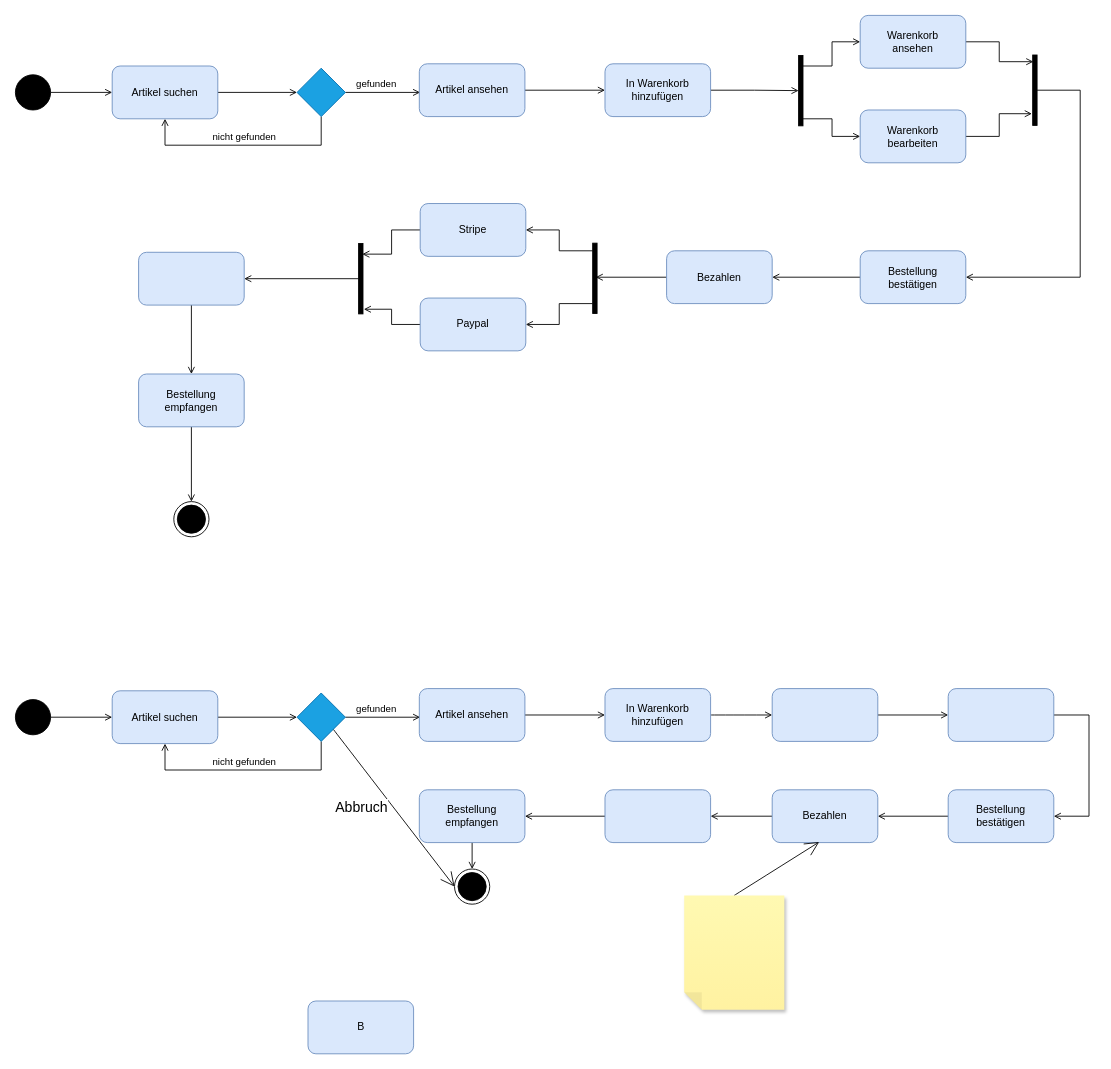
Some shapes in this 1111 by 1069 pixel diagram are drawn without their labels. Here are the shapes that lost their labels. From the top down, the centre of each, then its label:
[191,278]: Lieferung
[824,714]: Warenkorb öffnen
[1000,714]: Kasse öffnen
[657,816]: Bestellstatus überprüfen
[734,953]: Bestellung verwerfen, bei Ablehnung
